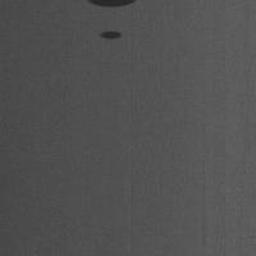Oil spot: (87, 0, 137, 9), (99, 29, 123, 41)
